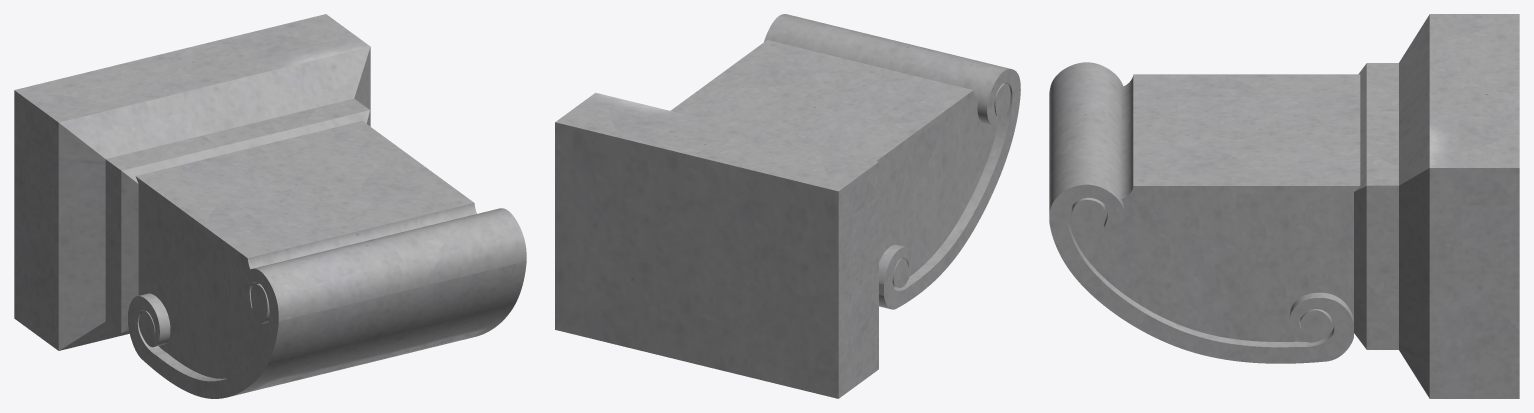
The picture shows the model from 3 angles, left to right: view 1: azimuth 30°, elevation 25°; view 2: azimuth 150°, elevation 25°; view 3: azimuth 270°, elevation 25°; orthographic projection. The views are drawn at different scales.
Parts seen in each view (by area): view 1: PA-88-F_LOD0; view 2: PA-88-F_LOD0; view 3: PA-88-F_LOD0.
Boxes of the visible parts, left/top/right/bottom form: PA-88-F_LOD0: left=14, top=14, right=526, bottom=398; PA-88-F_LOD0: left=555, top=14, right=1020, bottom=398; PA-88-F_LOD0: left=1049, top=14, right=1519, bottom=398.
Size of what is drawn, in the model's own units: 50.8 by 35.56 by 65.63.
